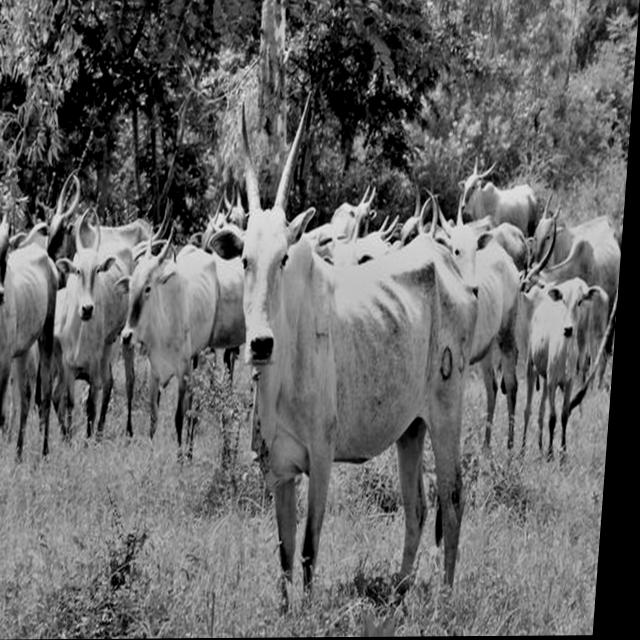Cow: (181, 88, 498, 614)
